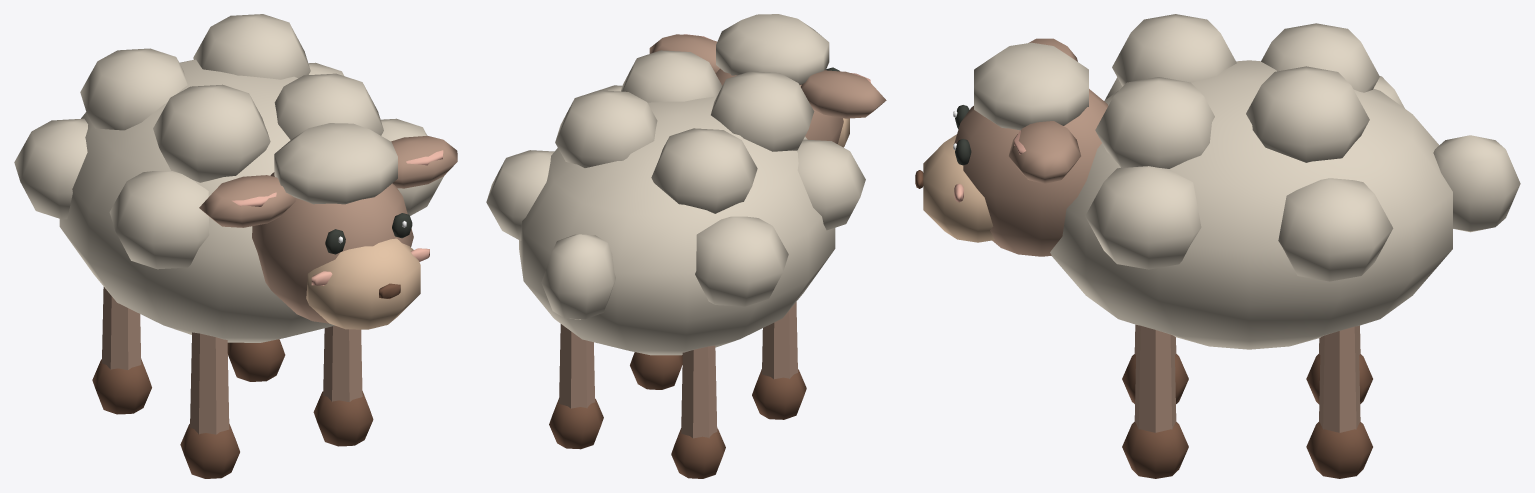
Rendered from sheep.glb.
3 renders of one model, left to right at view 1: azimuth 30°, elevation 25°; view 2: azimuth 150°, elevation 25°; view 3: azimuth 270°, elevation 25°, orthographic. The views are drawn at different scales.
Parts seen in each view (by area): view 1: wool-body, head, wool-curl-6, forelock, wool-curl-2, muzzle, wool-curl-4, wool-curl-5, wool-curl-0, wool-curl-7, leg-2, ear--1 (+8 smaller); view 2: wool-body, wool-curl-0, wool-curl-4, wool-curl-6, wool-curl-5, forelock, tail, wool-curl-2, wool-curl-7, wool-curl-1, leg-0, ear--1 (+8 smaller); view 3: wool-body, head, wool-curl-3, wool-curl-1, wool-curl-5, wool-curl-7, forelock, wool-curl-6, tail, wool-curl-4, muzzle, leg-3 (+6 smaller).
Part boxes in pixels (left/top/right/bottom): wool-body: left=59, top=59, right=334, bottom=342; head: left=252, top=172, right=413, bottom=323; wool-curl-6: left=153, top=84, right=270, bottom=182; forelock: left=274, top=123, right=397, bottom=204; wool-curl-2: left=109, top=170, right=209, bottom=269; muzzle: left=306, top=238, right=420, bottom=329; wool-curl-4: left=80, top=48, right=187, bottom=130; wool-curl-5: left=193, top=14, right=310, bottom=79; wool-curl-0: left=14, top=118, right=87, bottom=219; wool-curl-7: left=274, top=73, right=383, bottom=139; leg-2: left=190, top=332, right=229, bottom=434; ear--1: left=199, top=175, right=295, bottom=227; wool-body: left=519, top=96, right=835, bottom=355; wool-curl-0: left=695, top=216, right=788, bottom=306; wool-curl-4: left=651, top=128, right=757, bottom=213; wool-curl-6: left=711, top=71, right=814, bottom=151; wool-curl-5: left=555, top=90, right=657, bottom=167; forelock: left=716, top=14, right=829, bottom=84; tail: left=541, top=234, right=615, bottom=319; wool-curl-2: left=797, top=139, right=865, bottom=230; wool-curl-7: left=620, top=50, right=722, bottom=102; wool-curl-1: left=486, top=150, right=554, bottom=240; leg-0: left=681, top=345, right=717, bottom=438; ear--1: left=801, top=70, right=886, bottom=118; wool-body: left=1050, top=60, right=1452, bottom=349; head: left=954, top=89, right=1107, bottom=256; wool-curl-3: left=1085, top=166, right=1201, bottom=269; wool-curl-1: left=1278, top=178, right=1393, bottom=281; wool-curl-5: left=1246, top=66, right=1369, bottom=162; wool-curl-7: left=1095, top=77, right=1214, bottom=168; forelock: left=974, top=42, right=1088, bottom=130; wool-curl-6: left=1112, top=14, right=1236, bottom=86; tail: left=1433, top=135, right=1520, bottom=232; wool-curl-4: left=1261, top=23, right=1379, bottom=92; muzzle: left=923, top=134, right=994, bottom=242; leg-3: left=1134, top=325, right=1176, bottom=432.
Bounding box in the file's own units: 1.18 × 1.31 × 1.81.
